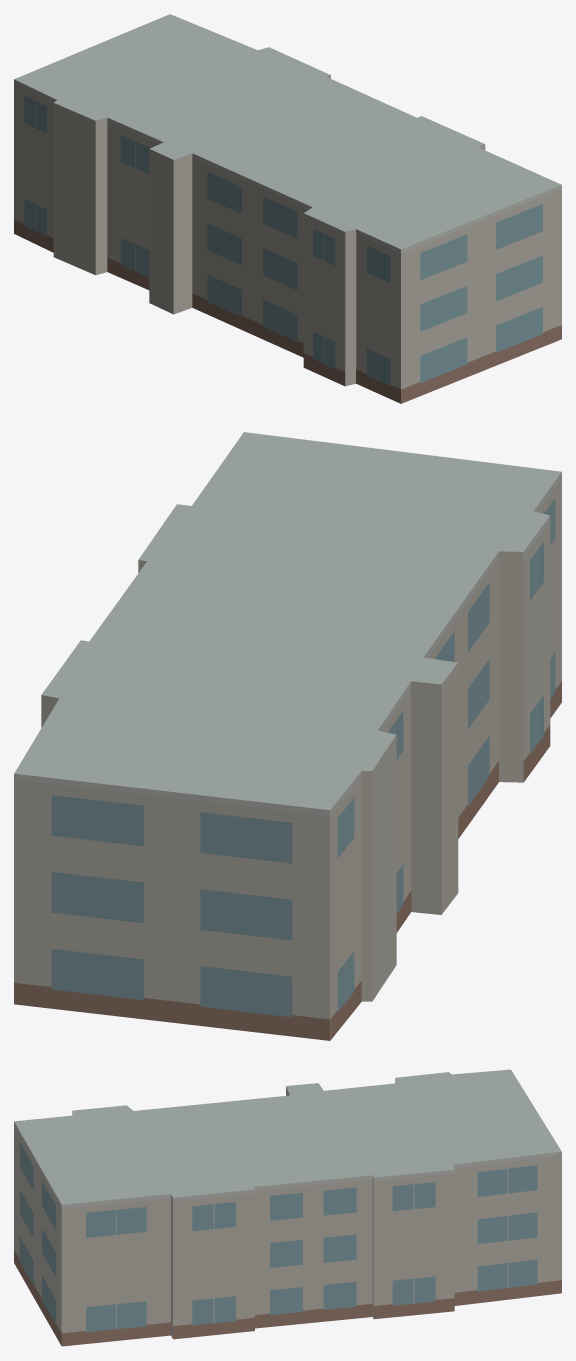
Rendered from survey-upis-32470410.glb.
The picture shows the model from 3 angles, top to bottom: view 1: azimuth 30°, elevation 25°; view 2: azimuth 150°, elevation 25°; view 3: azimuth 270°, elevation 25°; orthographic projection. The views are drawn at different scales.
Parts seen in each view (by area): view 1: survey-upis-32470410.tmp; view 2: survey-upis-32470410.tmp; view 3: survey-upis-32470410.tmp.
Part boxes in pixels (x1,y1,x2,y2): survey-upis-32470410.tmp: [14, 14, 561, 403]; survey-upis-32470410.tmp: [14, 432, 561, 1040]; survey-upis-32470410.tmp: [14, 1069, 561, 1346].
Bounding box in the file's own units: 18.78 × 9.15 × 32.1.
